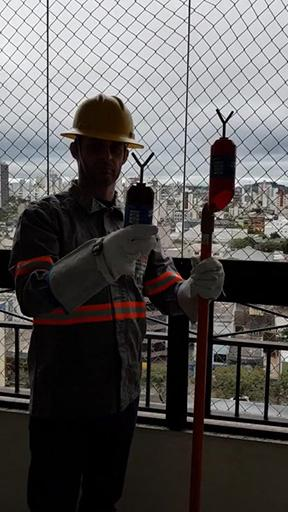Detector_Tensao_Contato: (206, 108, 236, 210), (125, 151, 155, 245)
Vara_Manobra: (188, 207, 214, 511)
